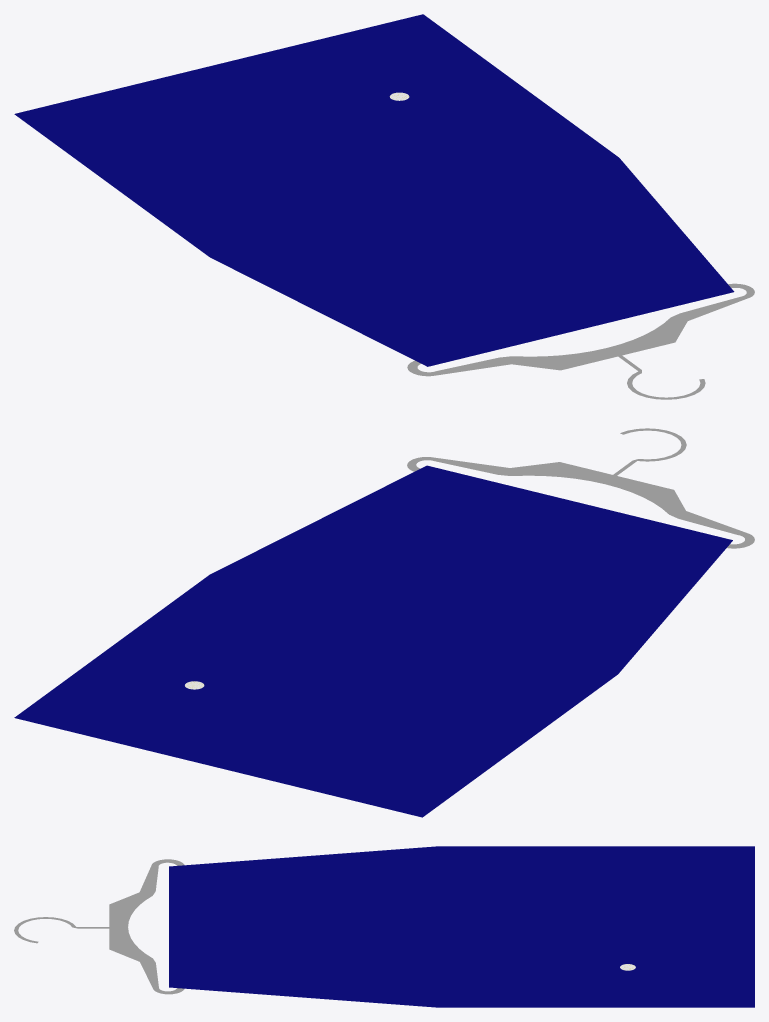
3 views of the same model, one above another, from view 1: azimuth 30°, elevation 25°; view 2: azimuth 150°, elevation 25°; view 3: azimuth 270°, elevation 25° (orthographic). The views are drawn at different scales.
Visible parts, largest first — view 1: hung pair of men s pants; view 2: hung pair of men s pants; view 3: hung pair of men s pants.
Part boxes in pixels (x1,y1,x2,y2): hung pair of men s pants: [14, 14, 754, 399]; hung pair of men s pants: [14, 428, 754, 817]; hung pair of men s pants: [14, 846, 754, 1007].
Bounding box in the file's own units: 12 × 0 × 23.29.
